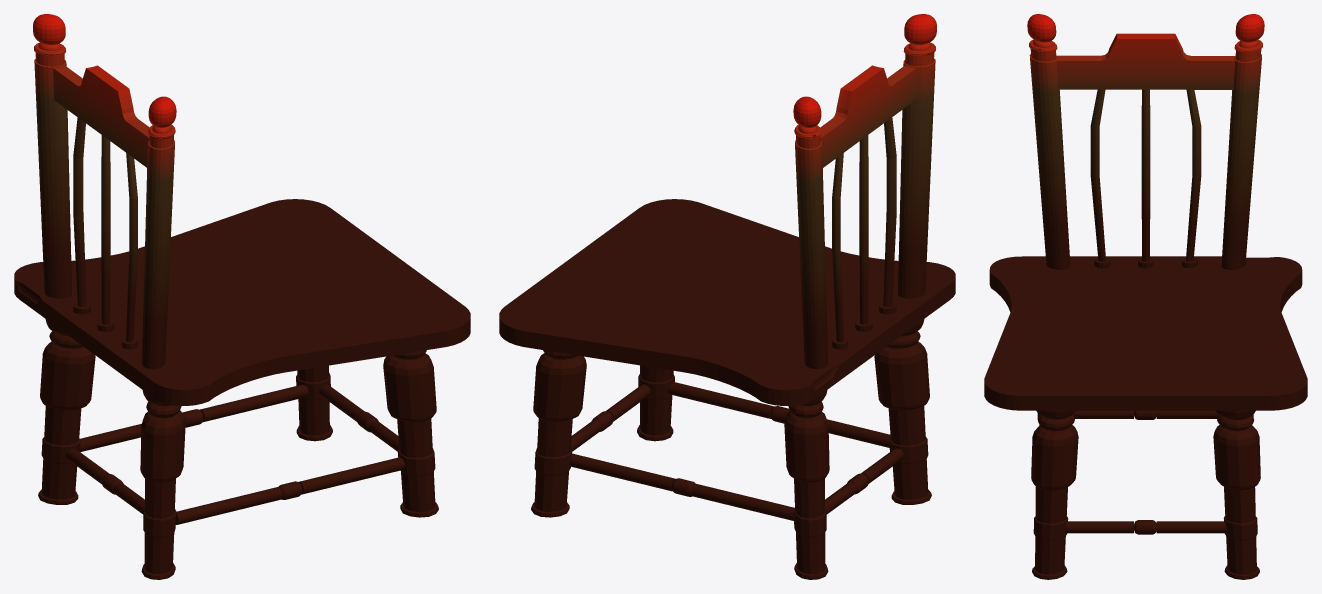
Rendered from Chair_OBJ.fbx.
The picture shows the model from 3 angles, left to right: view 1: azimuth 30°, elevation 25°; view 2: azimuth 150°, elevation 25°; view 3: azimuth 270°, elevation 25°; orthographic projection. The views are drawn at different scales.
Visible parts, largest first — view 1: Cube; view 2: Cube; view 3: Cube.
Part boxes in pixels (x1,y1,x2,y2): Cube: (14,14,470,579); Cube: (499,14,955,579); Cube: (984,14,1307,579).
Size of the model in its own units: 204 by 300 by 200.
Materials: 1 (1 with a texture image).
